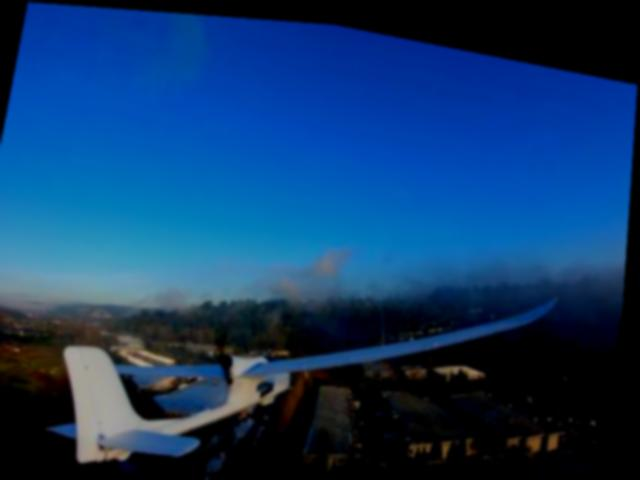uav: (37, 186, 575, 480)
